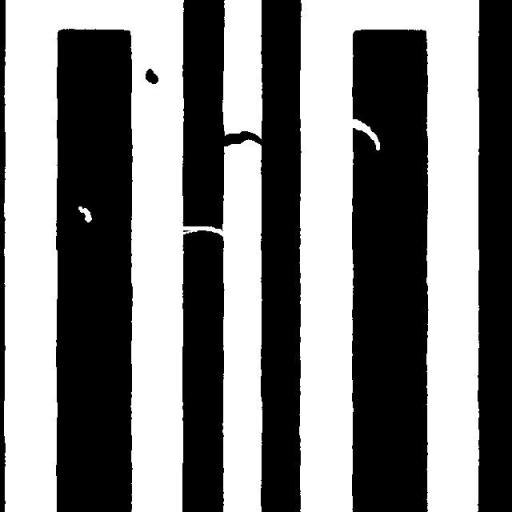copper: (138, 61, 166, 91)
mousebite: (342, 111, 388, 158)
open: (170, 218, 232, 244)
pin-hole: (70, 198, 100, 230)
short: (212, 123, 274, 154)
